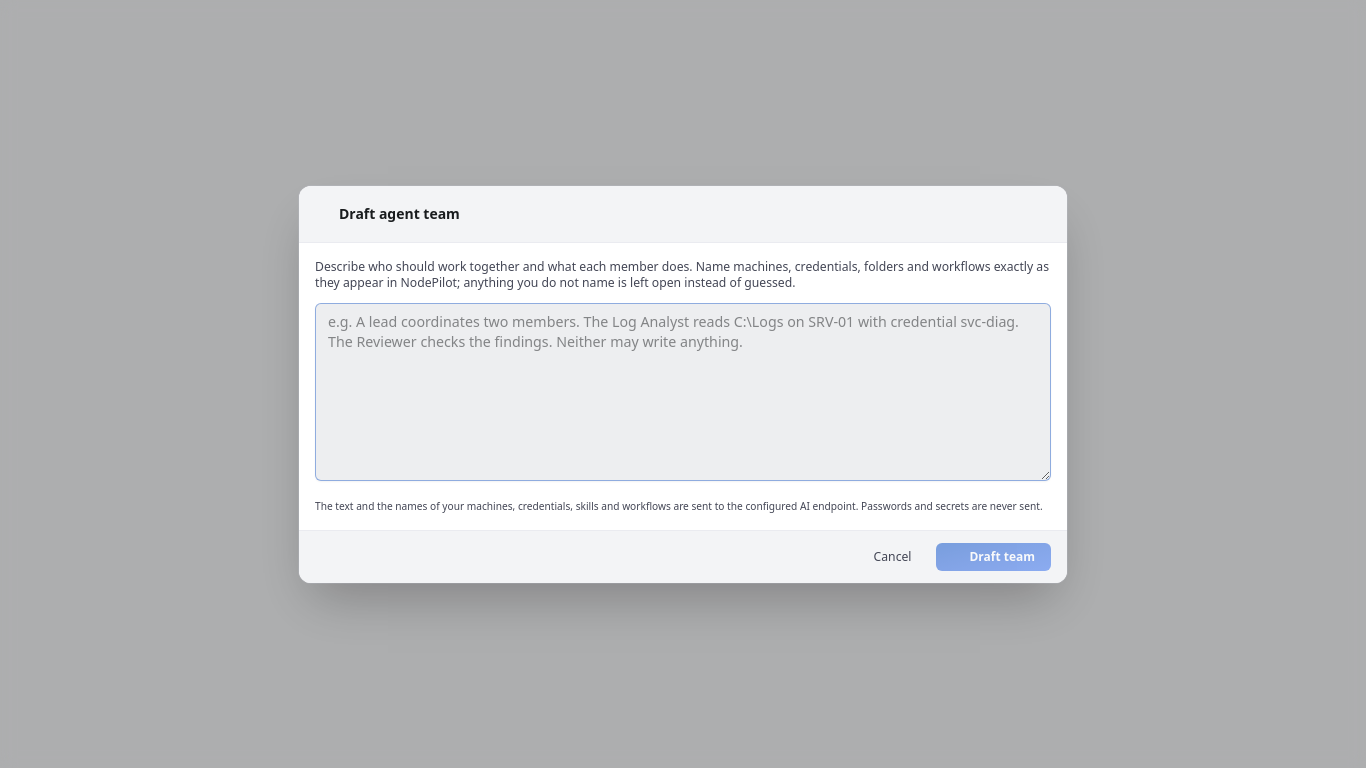
Test: AgentTeamDraftDialog › shows effective target, paths and an unrestricted HTTP tool before anything is applied
Replace the text in the text box named "Team description" with "Analyst reads C:\\Logs on SRV-01" at {"x": 683, "y": 392}, box [315,302,1051,480]
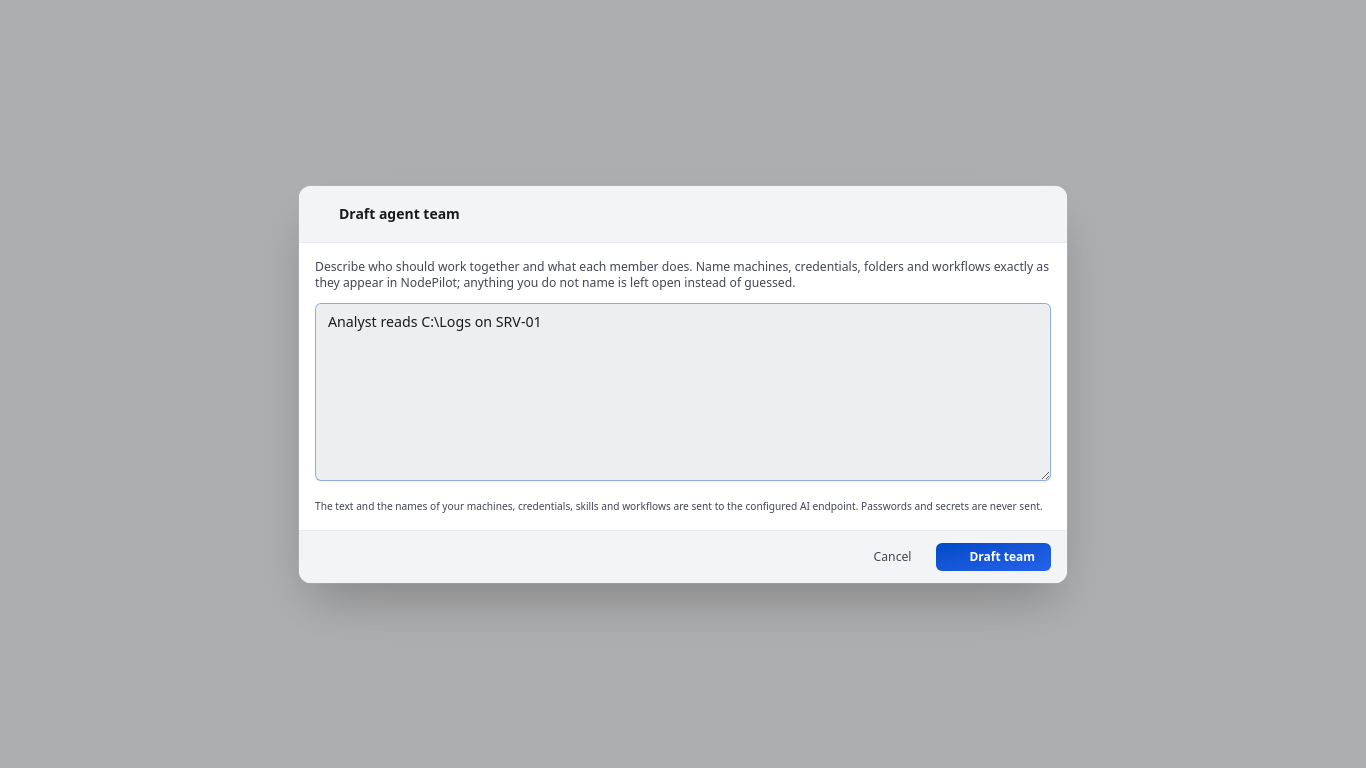
Click the button "Draft team".
click(993, 556)  # box [936,542,1051,570]
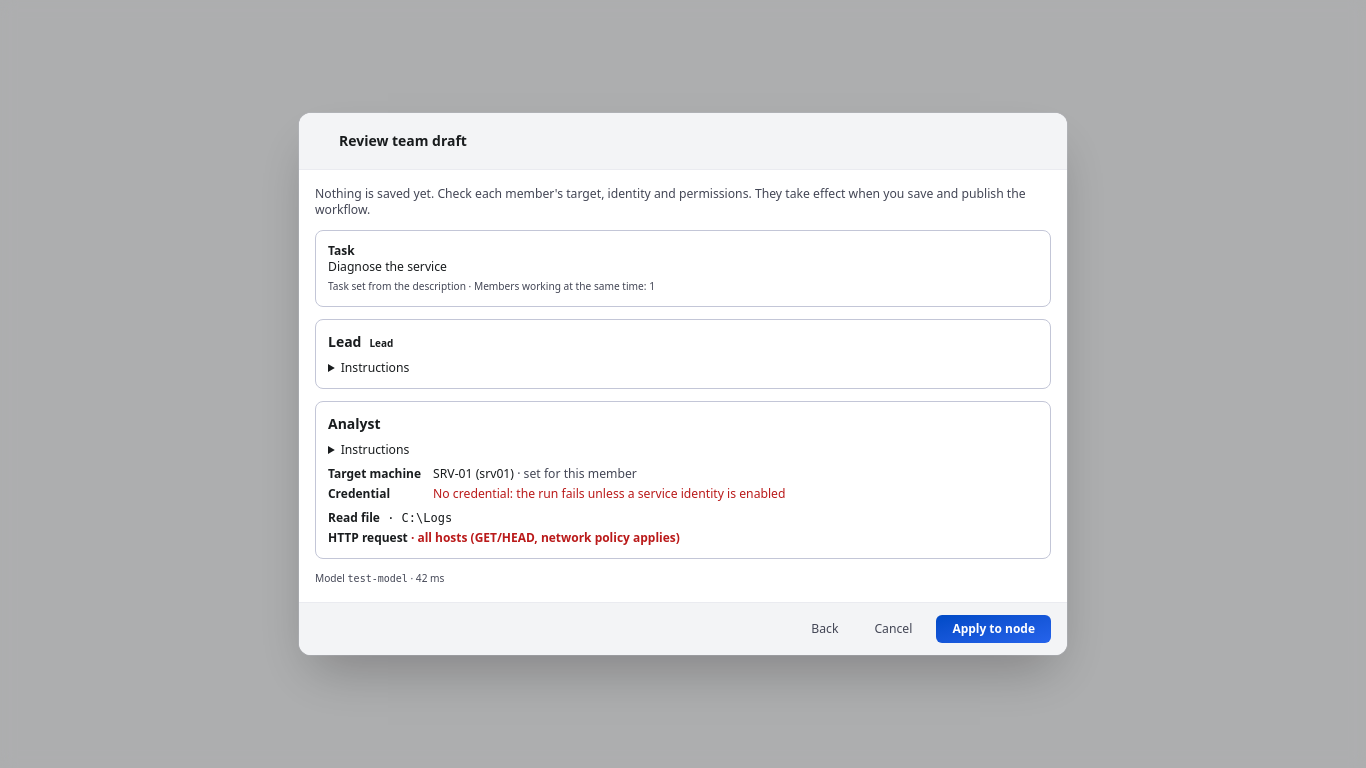
expect the text "Review team draft" is shown: met, box [339,131,467,151]
expect the text "SRV-01 (srv01) · set for this member" is shown: met, box [433,465,637,482]
expect the text "· C:\\Logs" is shown: met, box [380,511,452,525]
